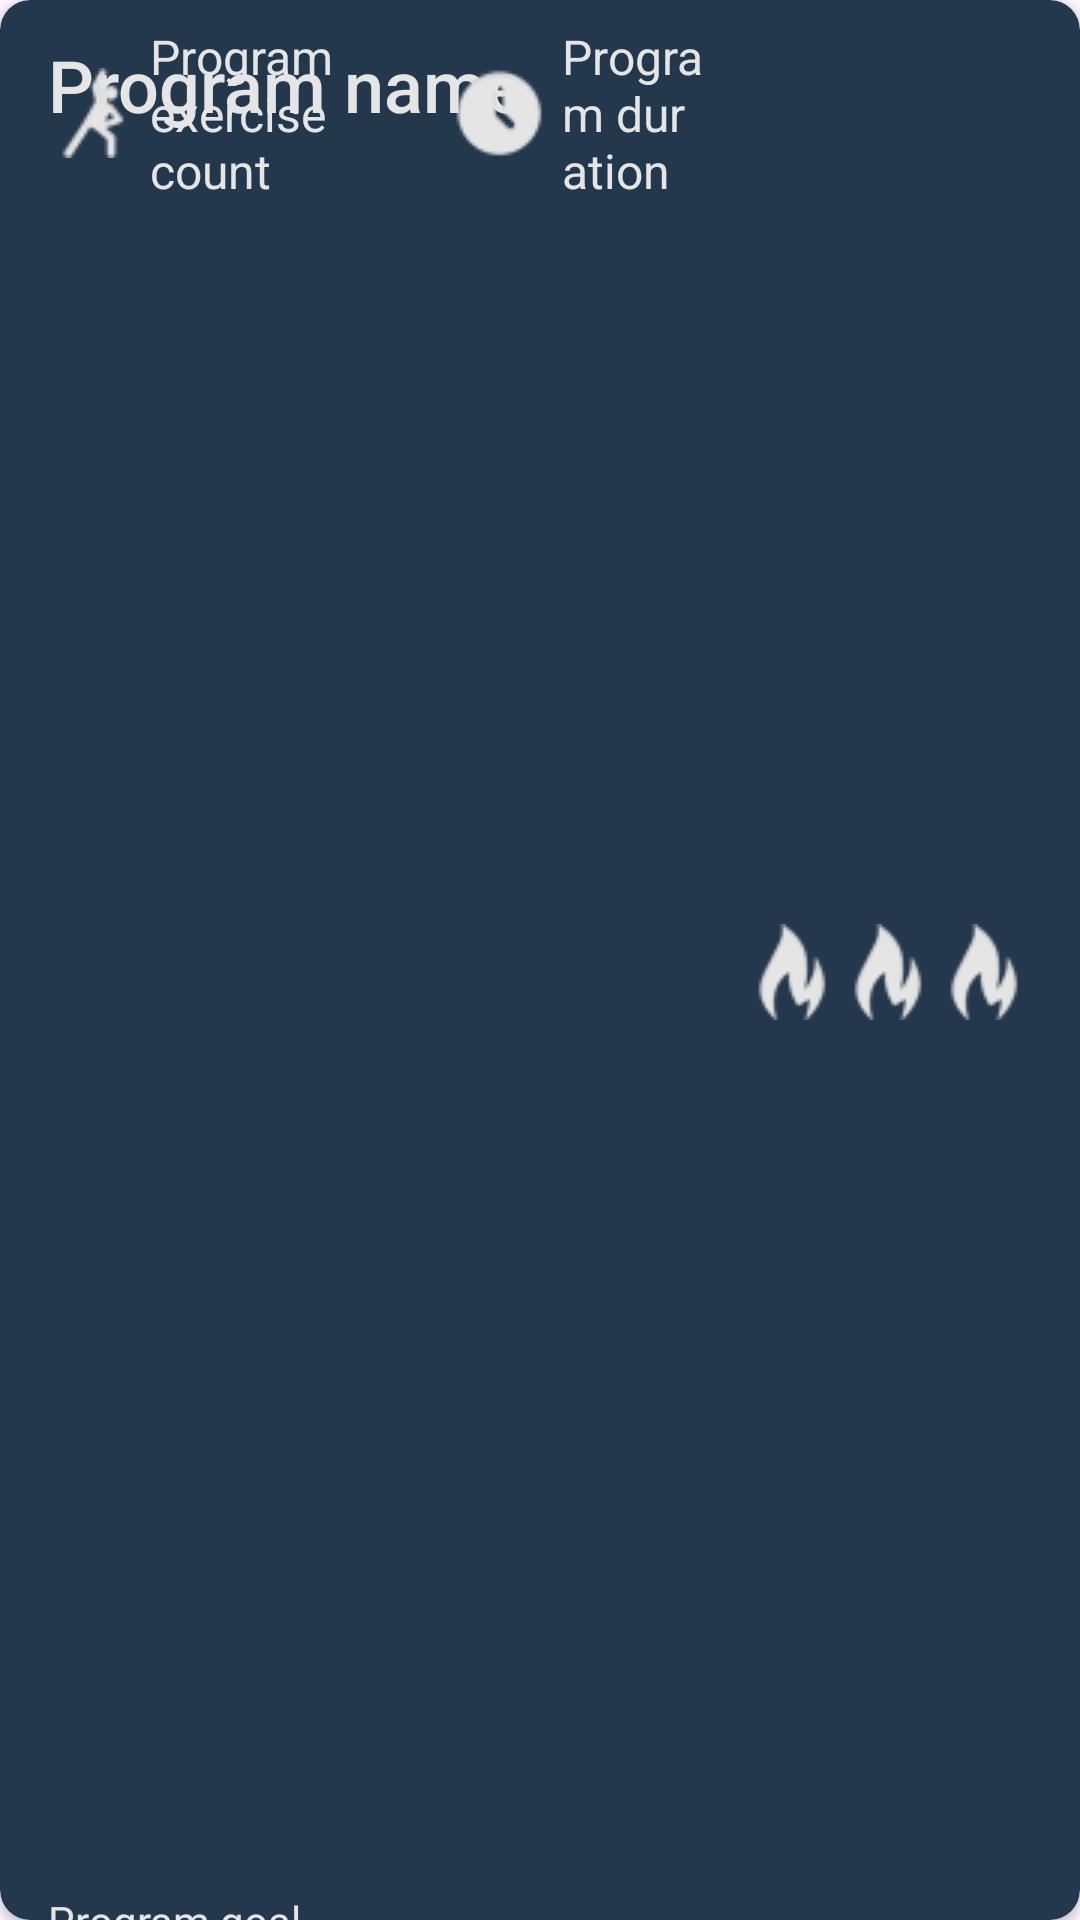

Icon bounding boxes for this 1080 × 1920 phone screenshot, format box=[x1, y1, x2, y2]:
Program difficulty: box=[758, 924, 826, 1020], box=[854, 924, 922, 1020], box=[950, 924, 1018, 1020]
